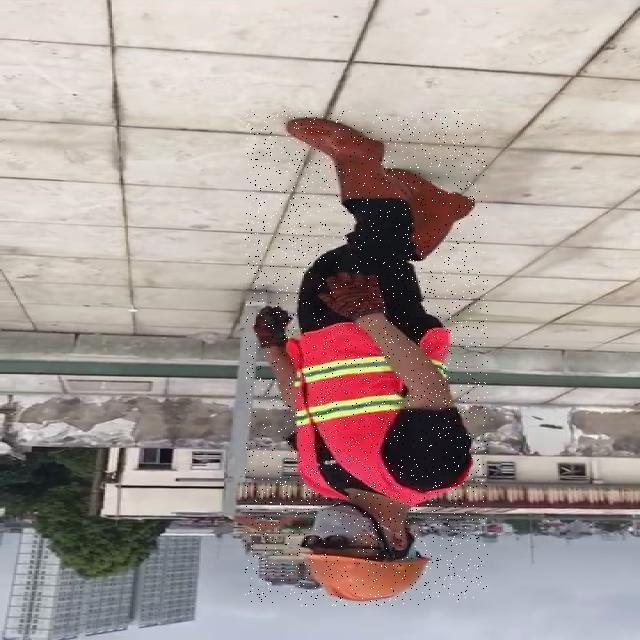gloves: (330, 267, 394, 319), (248, 352, 250, 354)
